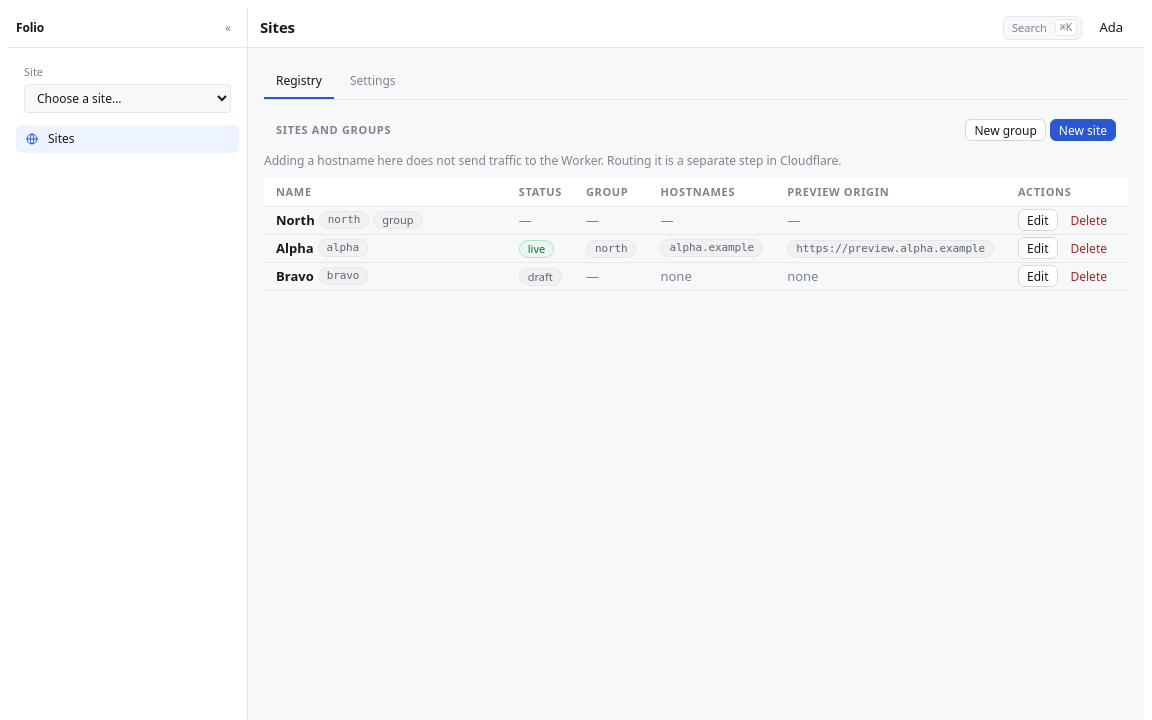
Test: the Sites screen › has no brand column and no brand field on a single-brand deployment
The width and height of the screenshot is (1152, 720).
Click the button "New site".
click(1083, 130)  # box [1050,119,1116,141]
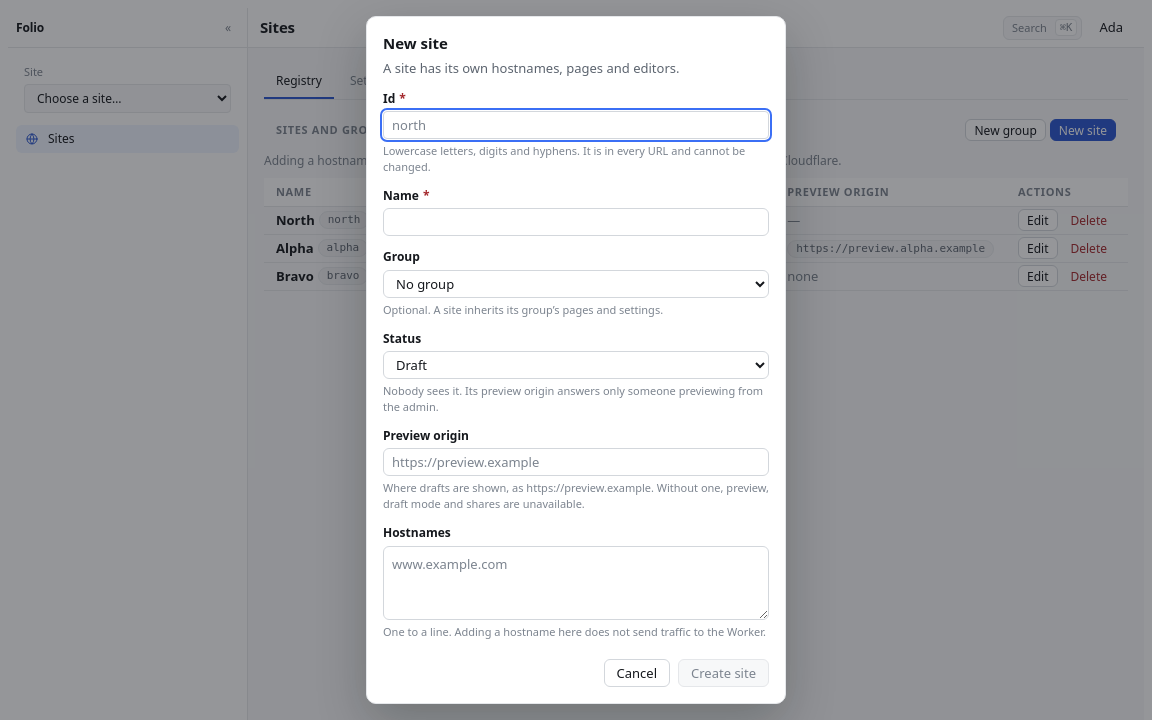
Result: the field labelled "Preview origin" is shown at [383,448,769,476]
